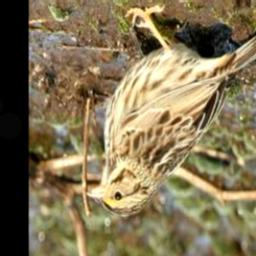Sparrow: (86, 1, 256, 219)
